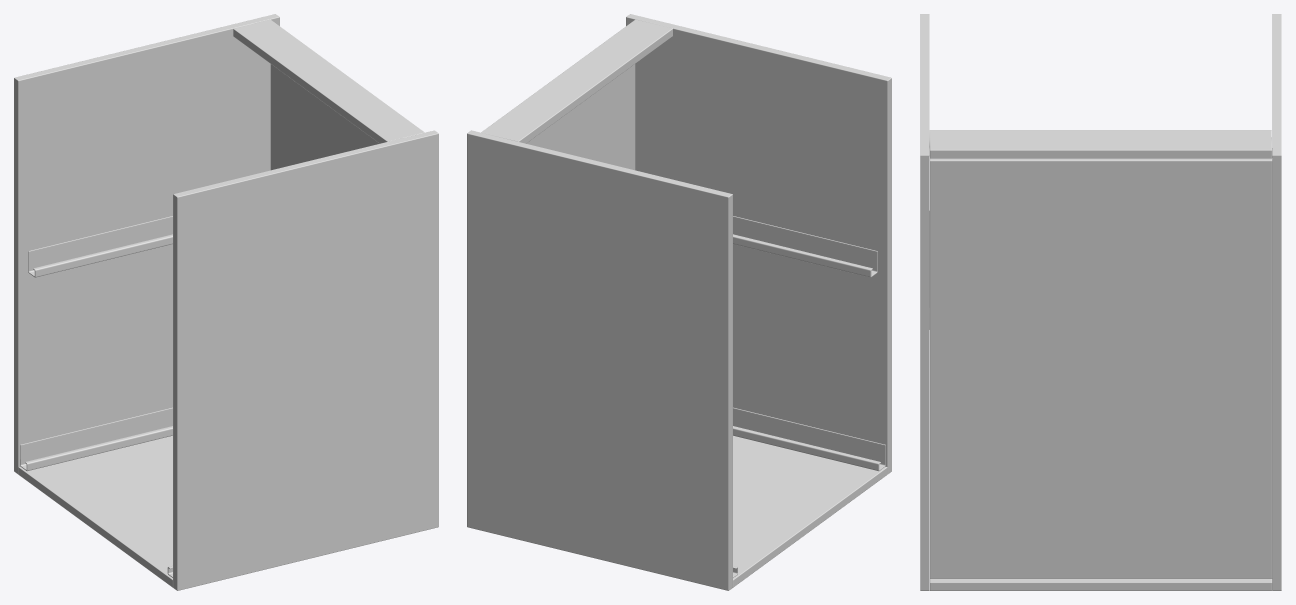
The model's file is SM_Kitchen_08_Sink_Base.dae.
3 renders of one model, left to right at view 1: azimuth 30°, elevation 25°; view 2: azimuth 150°, elevation 25°; view 3: azimuth 270°, elevation 25°, orthographic. The views are drawn at different scales.
Visible parts, largest first — view 1: SM_Kitchen_08_Sink_Base; view 2: SM_Kitchen_08_Sink_Base; view 3: SM_Kitchen_08_Sink_Base.
Part boxes in pixels (<box>): SM_Kitchen_08_Sink_Base: <box>14,14,438,590</box>; SM_Kitchen_08_Sink_Base: <box>467,14,891,590</box>; SM_Kitchen_08_Sink_Base: <box>920,14,1281,590</box>.
Bounding box in the file's own units: 0.5549 × 0.5999 × 0.798.
